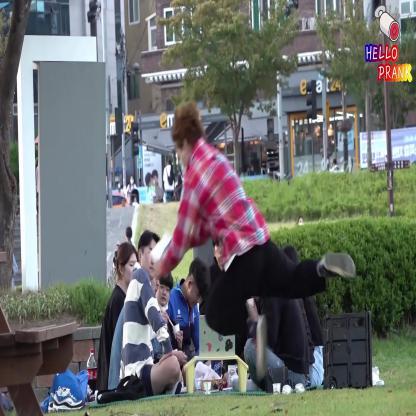Fall_Down: (153, 103, 356, 380)
